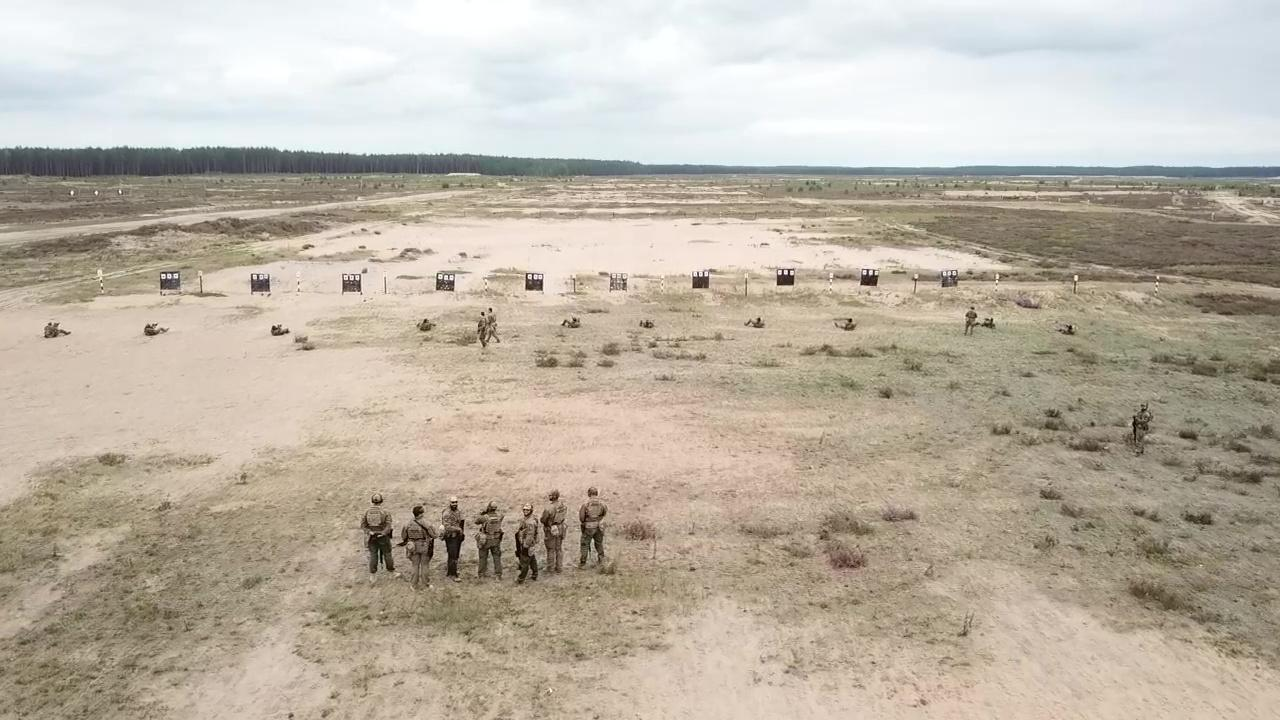Soldier: (359, 491, 398, 582), (400, 502, 436, 595), (471, 497, 508, 584), (574, 483, 610, 571), (435, 495, 470, 584), (537, 488, 567, 577), (513, 500, 543, 586), (1129, 400, 1154, 460), (473, 309, 492, 349), (485, 308, 503, 346), (40, 320, 71, 340), (962, 304, 978, 339), (142, 321, 171, 340), (268, 321, 293, 340)
